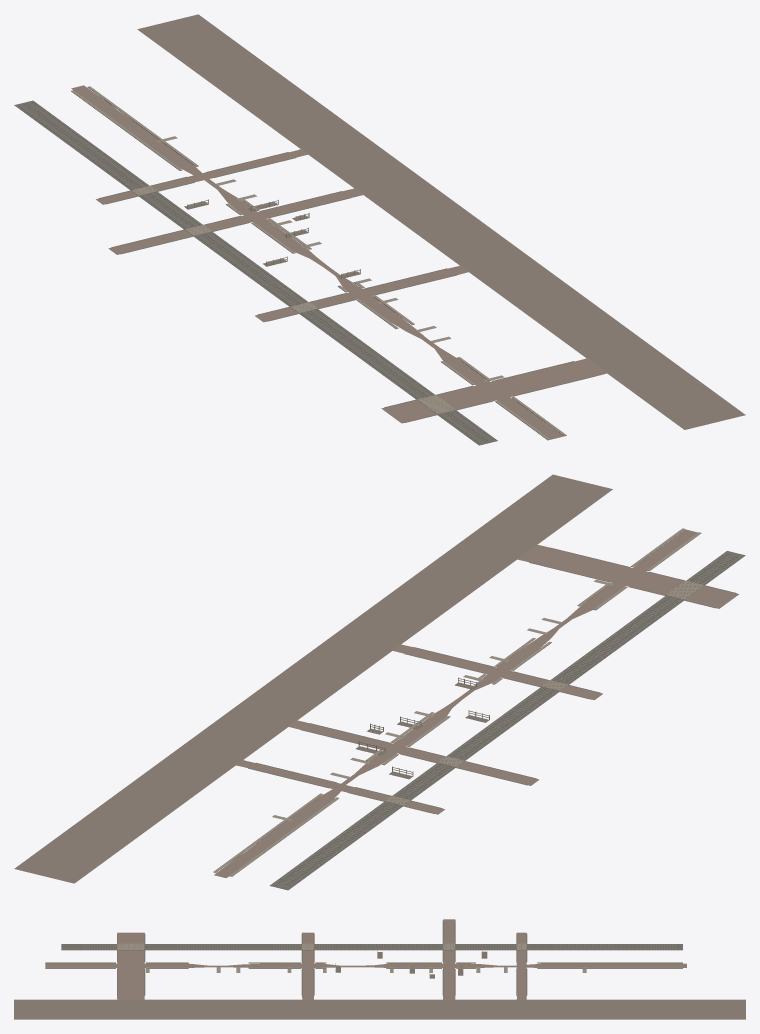
Rendered from street-crossing.glb.
3 views of the same model, one above another, from view 1: azimuth 30°, elevation 25°; view 2: azimuth 150°, elevation 25°; view 3: azimuth 270°, elevation 25° (orthographic). The views are drawn at different scales.
Visible parts, largest first — view 1: Street crossing and goods tracks; view 2: Street crossing and goods tracks; view 3: Street crossing and goods tracks.
Part boxes in pixels (<box>): Street crossing and goods tracks: <box>14,14,745,445</box>; Street crossing and goods tracks: <box>14,474,745,890</box>; Street crossing and goods tracks: <box>14,919,745,1019</box>.
Size of the model in its own units: 60.36 by 0.964 by 186.
